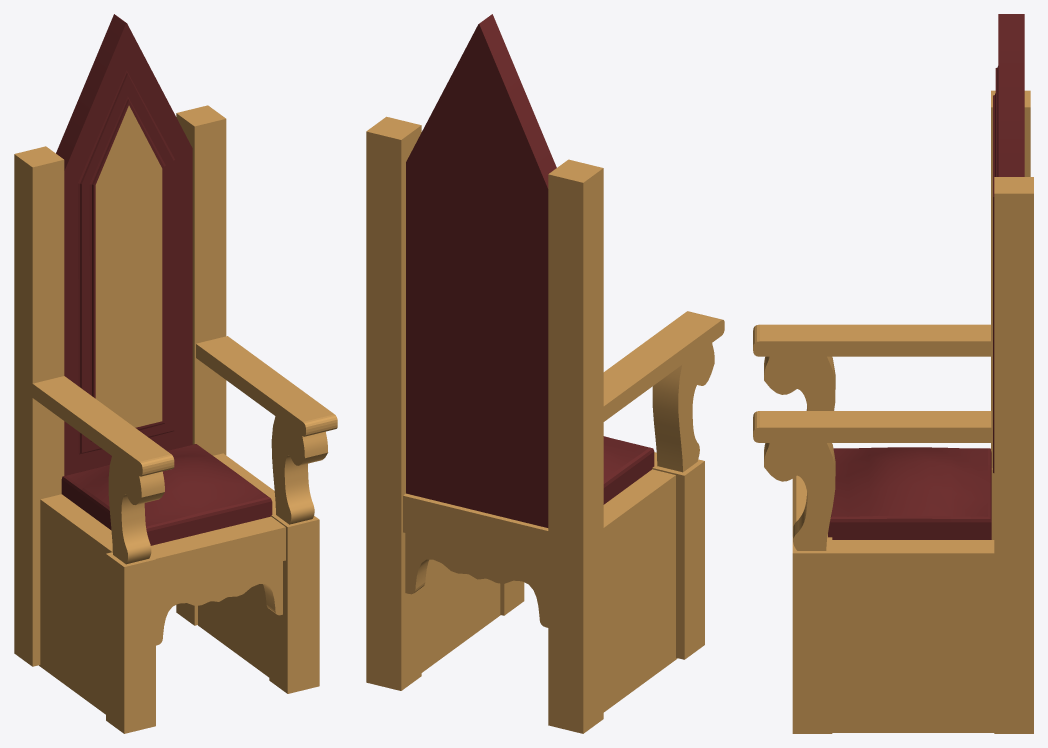
File: Throne.fbx
3 renders of one model, left to right at view 1: azimuth 30°, elevation 25°; view 2: azimuth 150°, elevation 25°; view 3: azimuth 270°, elevation 25°, orthographic. The views are drawn at different scales.
Parts seen in each view (by area): view 1: polySurface36; view 2: polySurface36; view 3: polySurface36.
Boxes of the visible parts, x1=… form: polySurface36: x1=14, y1=14, x2=337, y2=733; polySurface36: x1=366, y1=14, x2=724, y2=733; polySurface36: x1=753, y1=14, x2=1033, y2=733.
Bounding box in the file's own units: 6.5 × 19.7 × 7.48.
